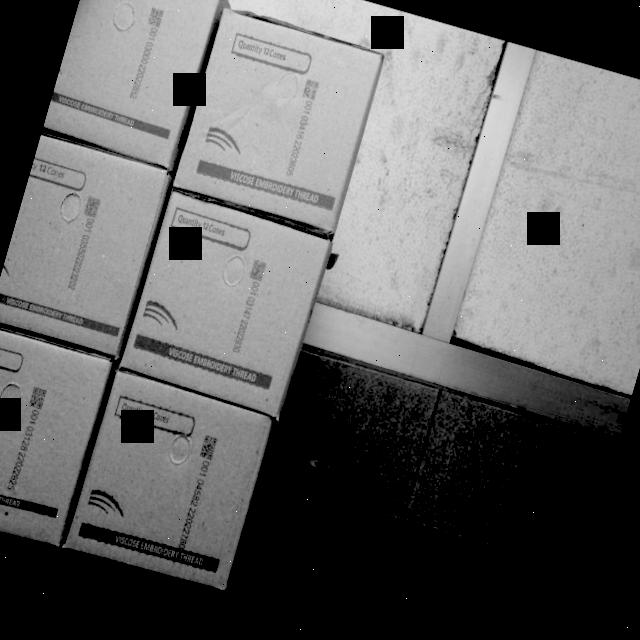box: (170, 5, 385, 236), (118, 195, 330, 417), (68, 372, 274, 590), (0, 136, 171, 360), (41, 0, 224, 167), (0, 329, 112, 556)
